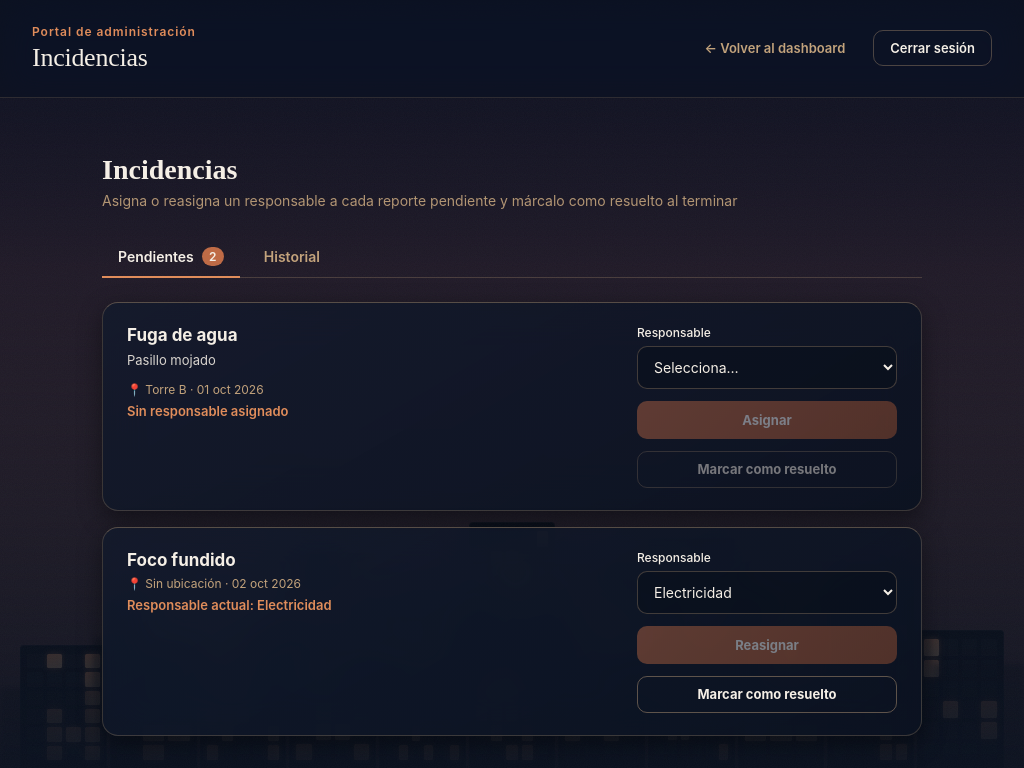
it: CU-08 pendientes › asigna un responsable y muestra la confirmación
Expected: the heading "Fuga de agua" is shown, [127,325,238,345]
Select "Plomería" in the dropdown labelled "Responsable" in the row of "Pasillo mojado": (767, 367) [637,346,897,389]
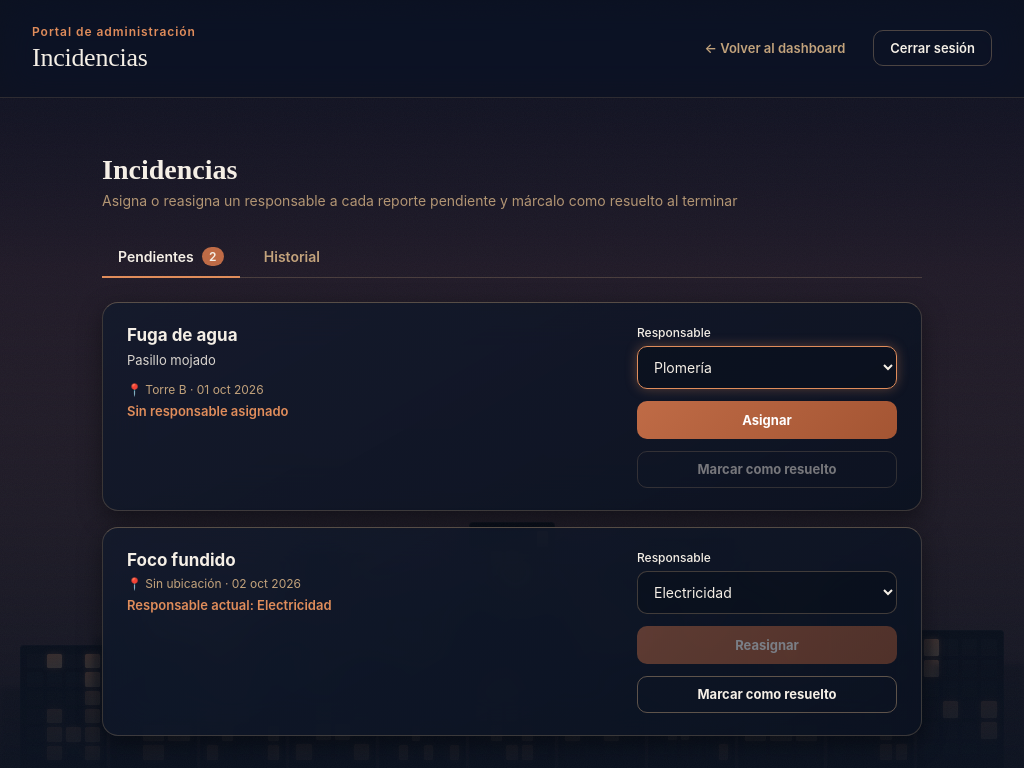
Click the button "Asignar": (767, 420) [637,401,897,439]
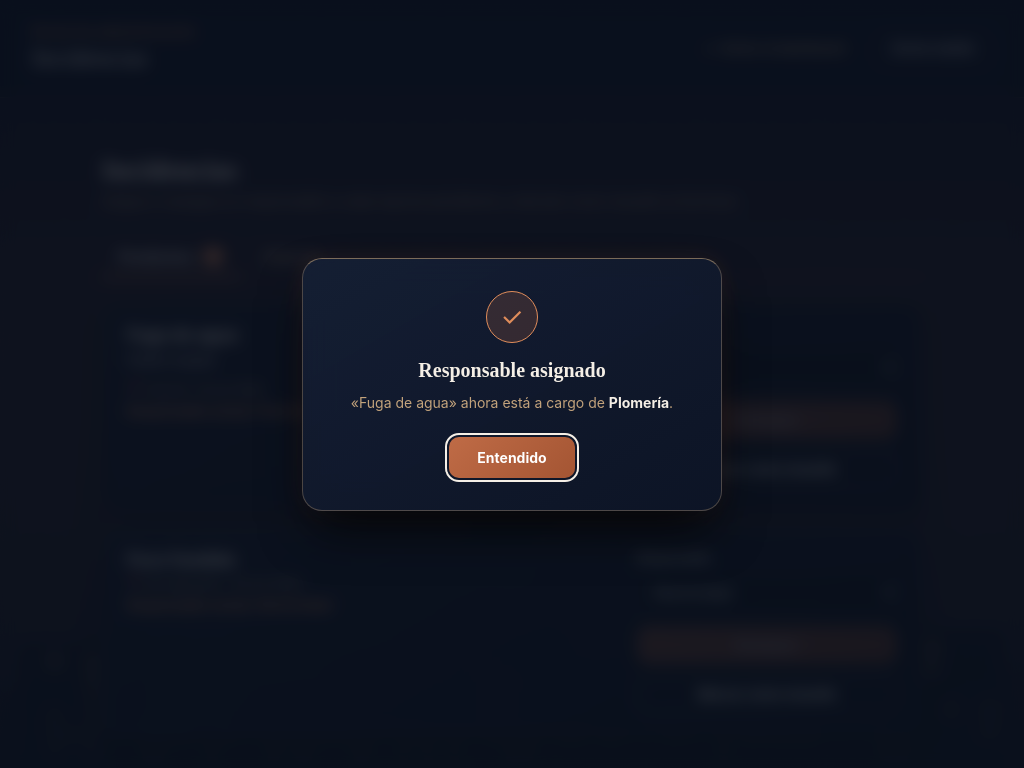
Expected: the heading "Responsable asignado" is shown, [418,358,606,380]
Result: the text "Responsable actual: Plomería" is shown at [127,403,312,419]
Click the button "Entendido": (512, 457) [449,436,575,478]
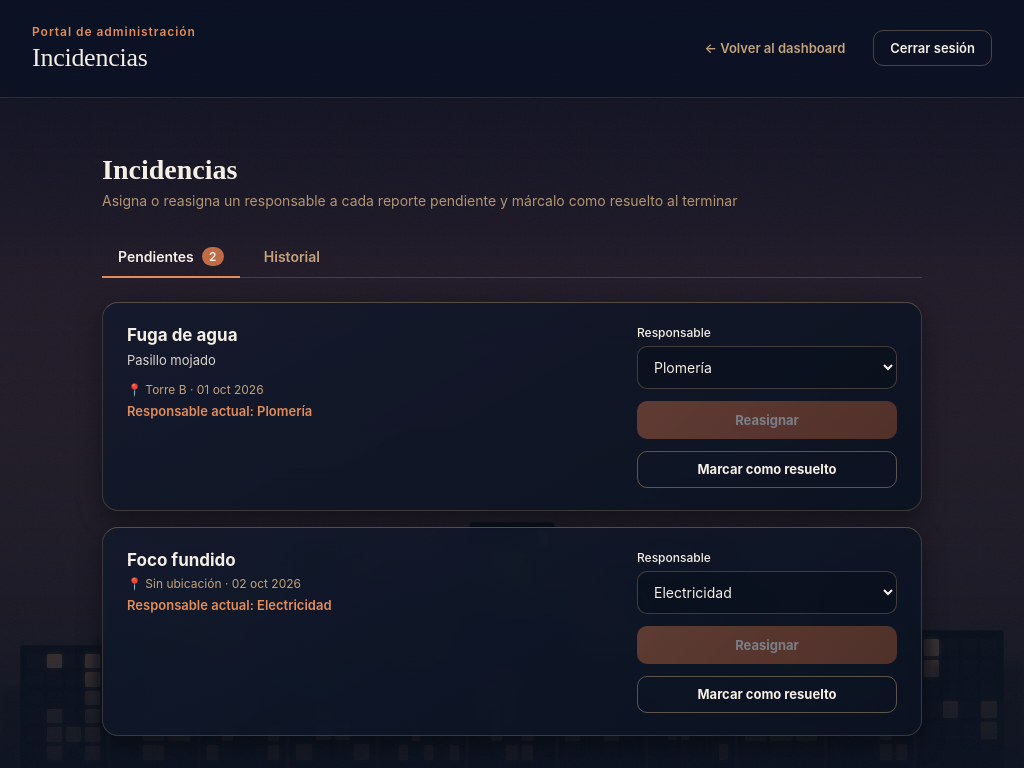
Result: the dialog is gone
